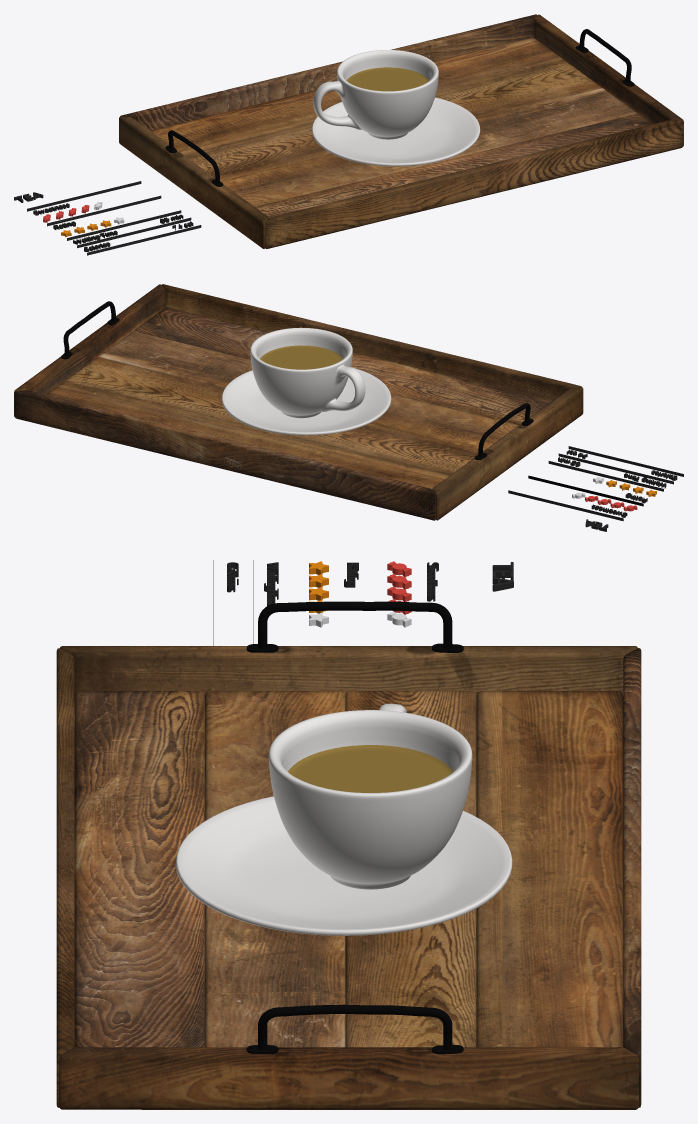
File: tea.glb
3 views of the same model, one above another, from view 1: azimuth 30°, elevation 25°; view 2: azimuth 150°, elevation 25°; view 3: azimuth 270°, elevation 25° (orthographic). The views are drawn at different scales.
Parts seen in each view (by area): view 1: 模匠网www.3dsmj.comBF_tray, 模匠网www.3dsmj.comBF_coffee_cup, 模匠网www.3dsmj.comBF_plate_small, Curve.150_Curve.621, 模匠网www.3dsmj.comBF_coffee, 模匠网www.3dsmj.comBF_tray_handles; view 2: 模匠网www.3dsmj.comBF_tray, 模匠网www.3dsmj.comBF_coffee_cup, 模匠网www.3dsmj.comBF_plate_small, Curve.150_Curve.621, 模匠网www.3dsmj.comBF_coffee, 模匠网www.3dsmj.comBF_tray_handles, Curve.216_Curve.273; view 3: 模匠网www.3dsmj.comBF_tray, 模匠网www.3dsmj.comBF_plate_small, 模匠网www.3dsmj.comBF_coffee_cup, 模匠网www.3dsmj.comBF_coffee, 模匠网www.3dsmj.comBF_tray_handles, Curve.150_Curve.621, Curve.198_Curve.669.
Boxes of the visible parts, x1,y1,x2,y2 form: 模匠网www.3dsmj.comBF_tray: (119, 14, 683, 248); 模匠网www.3dsmj.comBF_coffee_cup: (313, 50, 438, 139); 模匠网www.3dsmj.comBF_plate_small: (312, 97, 480, 166); Curve.150_Curve.621: (14, 181, 201, 255); 模匠网www.3dsmj.comBF_coffee: (346, 67, 428, 91); 模匠网www.3dsmj.comBF_tray_handles: (165, 29, 634, 186); 模匠网www.3dsmj.comBF_tray: (14, 284, 583, 520); 模匠网www.3dsmj.comBF_coffee_cup: (250, 327, 365, 418); 模匠网www.3dsmj.comBF_plate_small: (221, 367, 391, 435); Curve.150_Curve.621: (508, 446, 683, 531); 模匠网www.3dsmj.comBF_coffee: (260, 345, 342, 369); 模匠网www.3dsmj.comBF_tray_handles: (61, 301, 533, 459); Curve.216_Curve.273: (528, 475, 643, 506); 模匠网www.3dsmj.comBF_tray: (56, 646, 641, 1109); 模匠网www.3dsmj.comBF_plate_small: (176, 796, 512, 935); 模匠网www.3dsmj.comBF_coffee_cup: (268, 703, 472, 889); 模匠网www.3dsmj.comBF_coffee: (288, 745, 452, 792); 模匠网www.3dsmj.comBF_tray_handles: (246, 601, 463, 1054); Curve.150_Curve.621: (213, 560, 513, 645); Curve.198_Curve.669: (387, 561, 411, 614).
Size of the model in its own units: 0.8364 by 0.1043 by 0.379.
9 materials, 2 textured.
